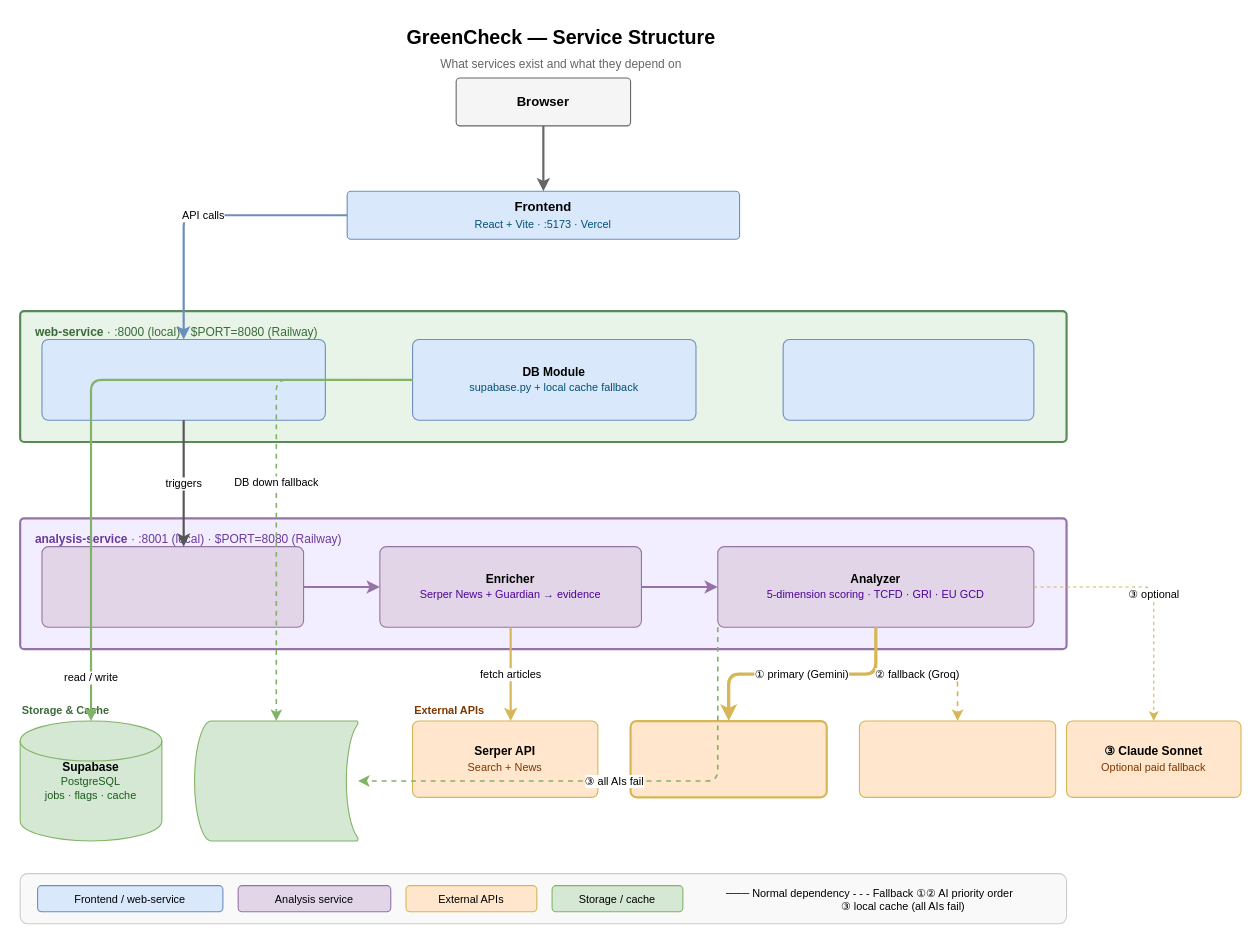
This 1260x943 diagram has some shape labels left out. Here are the shapes that lost their labels. From the top down, the centre of each, then its label:
the point at 183,379: Routes /api/analyze · /api/report · /api/history
the point at 908,379: PDF Generator WeasyPrint
the point at 172,586: Scraper Serper API → ESG URL → Playwright
the point at 728,758: ① Gemini 2.5 Flash Primary AI · 1,000 req/day free
the point at 957,758: ② Groq Llama 3.3 Backup AI · independent provider
the point at 275,780: Local Cache local_cache.json Shell · H&M · Tesla Patagonia · BP
